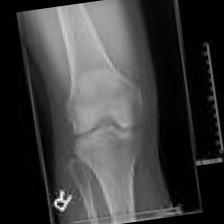avulsion-fracture: (14, 0, 203, 224)
